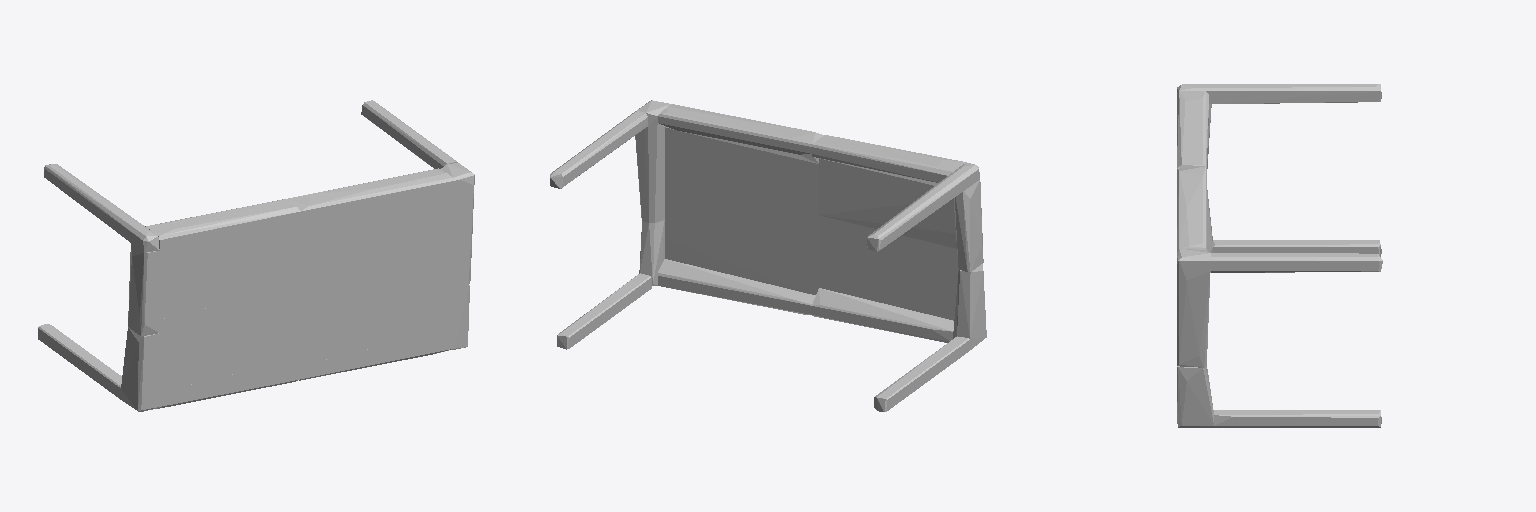
3 views of the same model, side by side, from view 1: azimuth 30°, elevation 25°; view 2: azimuth 150°, elevation 25°; view 3: azimuth 270°, elevation 25° (orthographic).
Parts seen in each view (by area): view 1: convex_9, convex_5, convex_6, convex_11, convex_7, convex_8, convex_4, convex_1, convex_3, convex_2, convex_10, convex_0 (+2 smaller); view 2: convex_9, convex_5, convex_6, convex_11, convex_8, convex_4, convex_7, convex_10, convex_3, convex_14, convex_0, convex_2 (+3 smaller); view 3: convex_10, convex_3, convex_14, convex_12, convex_11, convex_7, convex_0, convex_13.
Part boxes in pixels (bbox=[...]): convex_9: bbox=[301, 197, 453, 365]; convex_5: bbox=[160, 285, 300, 391]; convex_6: bbox=[160, 226, 300, 318]; convex_11: bbox=[287, 168, 453, 233]; convex_7: bbox=[145, 199, 300, 259]; convex_8: bbox=[299, 329, 453, 380]; convex_4: bbox=[157, 358, 300, 408]; convex_1: bbox=[121, 327, 159, 411]; convex_3: bbox=[44, 164, 159, 252]; convex_2: bbox=[128, 243, 159, 336]; convex_10: bbox=[441, 163, 474, 289]; convex_0: bbox=[38, 324, 121, 399]; convex_9: bbox=[665, 127, 818, 294]; convex_5: bbox=[819, 215, 958, 320]; convex_6: bbox=[819, 158, 956, 248]; convex_11: bbox=[658, 104, 823, 163]; convex_8: bbox=[658, 259, 815, 314]; convex_4: bbox=[812, 288, 953, 342]; convex_7: bbox=[812, 135, 965, 185]; convex_10: bbox=[635, 100, 670, 222]; convex_3: bbox=[867, 162, 979, 251]; convex_14: bbox=[550, 111, 647, 188]; convex_0: bbox=[874, 336, 969, 411]; convex_2: bbox=[953, 180, 983, 271]; convex_10: bbox=[1177, 248, 1210, 367]; convex_3: bbox=[1177, 84, 1381, 103]; convex_14: bbox=[1211, 253, 1382, 272]; convex_12: bbox=[1214, 410, 1381, 427]; convex_11: bbox=[1177, 166, 1206, 250]; convex_7: bbox=[1177, 91, 1208, 168]; convex_0: bbox=[1213, 240, 1381, 256]; convex_13: bbox=[1177, 366, 1213, 427].
Size of the model in its own units: 1.57 by 0.8373 by 0.8322.